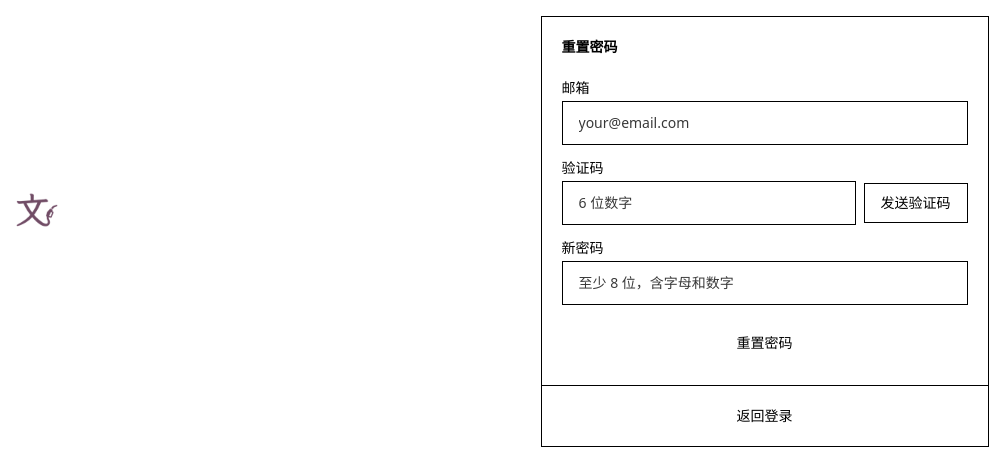
Scenario: ResetPasswordPage › 网络结果不明时禁用重发按钮 60 秒
Type "user@example.com" into the field with id "email" at (764, 122), box [562,100,968,144]
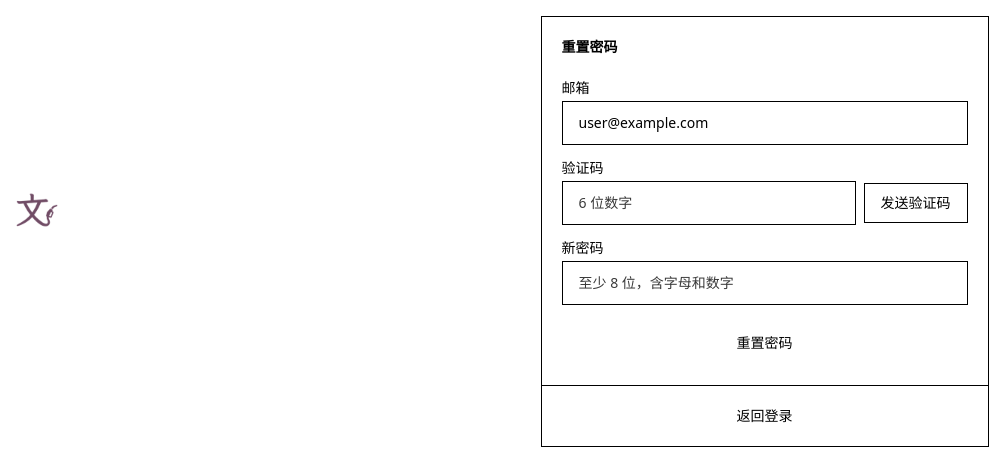
Click the button "发送验证码" at (916, 202), box [864,182,968,222]
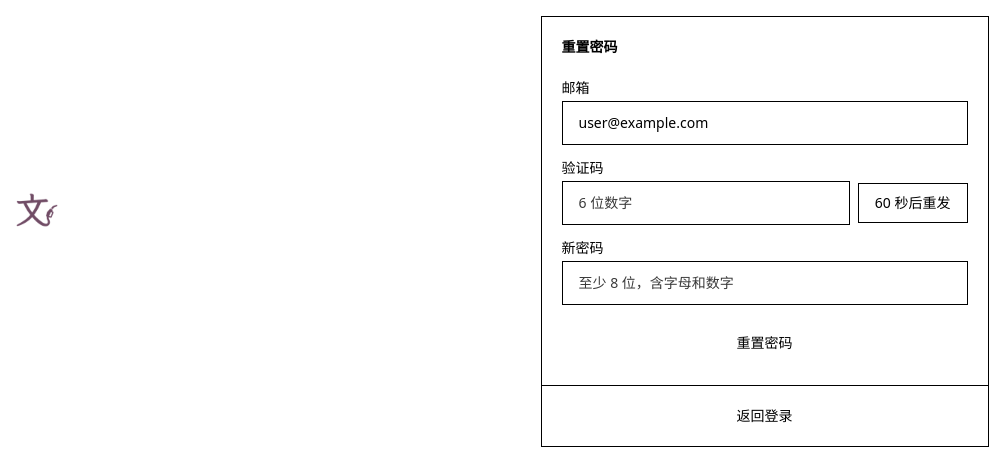
Expected: the button "60 秒后重发" is disabled, [858,182,968,222]
